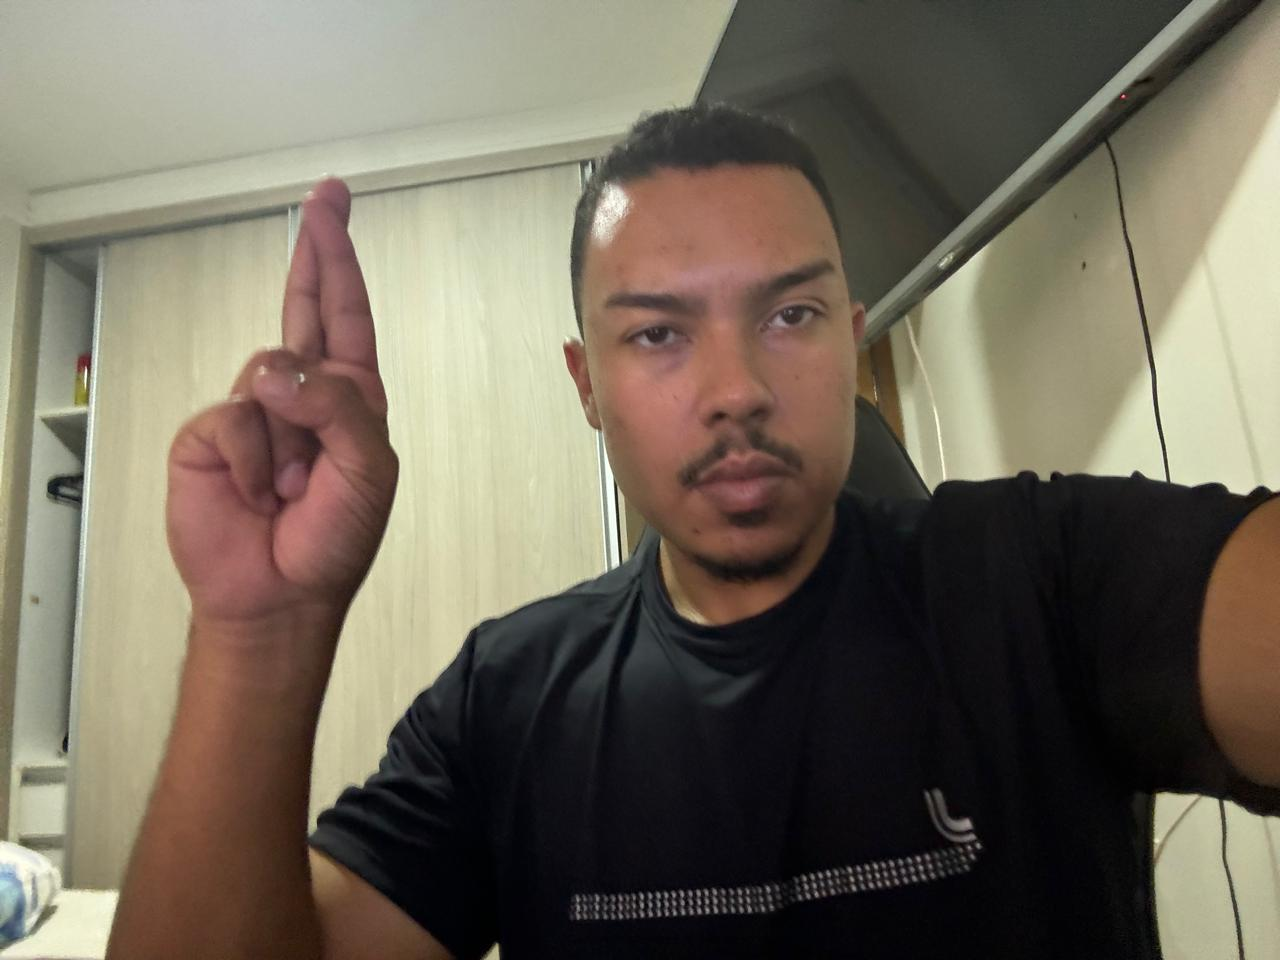r: (157, 168, 404, 634)
